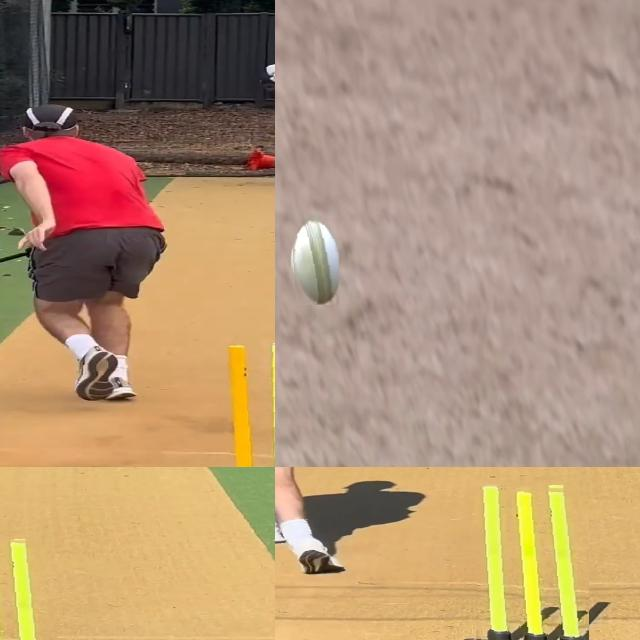Cricket ball: (290, 215, 339, 305)
Stumps: (462, 480, 588, 640), (208, 342, 275, 467), (0, 535, 56, 640)
